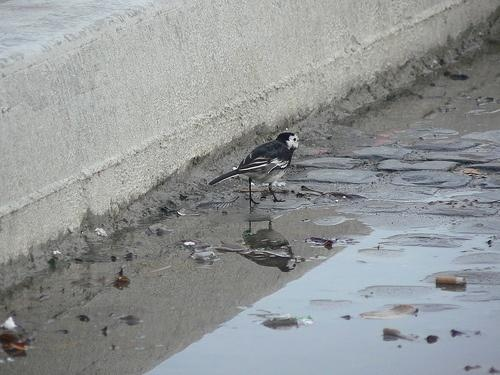bird: (210, 132, 301, 205)
